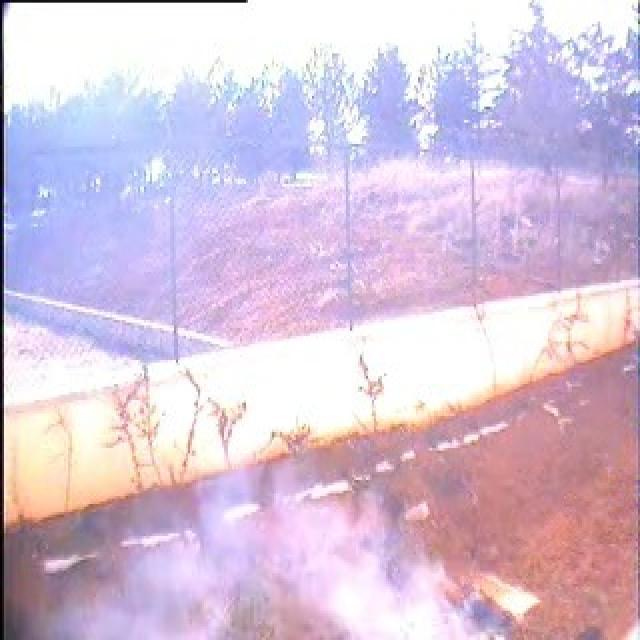Smoke: (40, 467, 471, 640)
